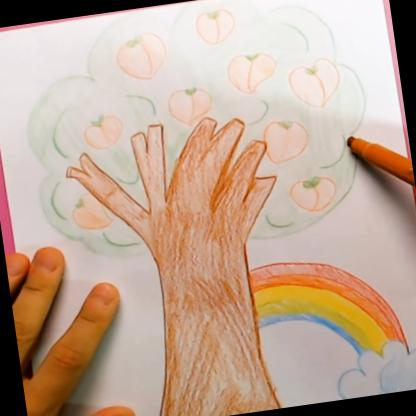branch_cut: (58, 110, 282, 249)
crown_cloud: (15, 0, 349, 215)
trunk_straight: (145, 239, 270, 394)
